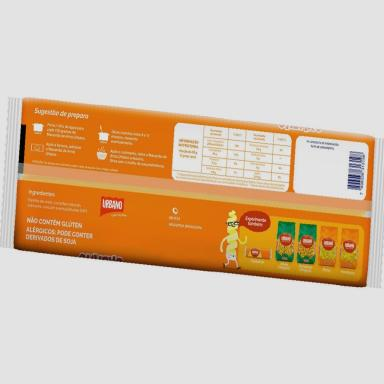pasta package: (10, 94, 378, 288)
